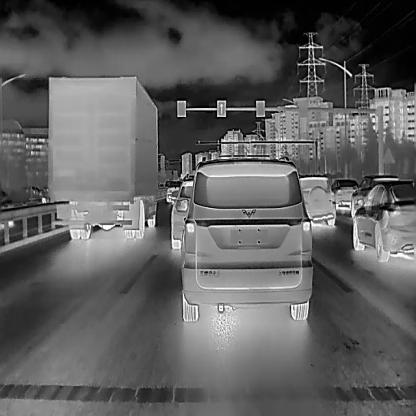car: (180, 158, 312, 321), (351, 179, 415, 262), (349, 172, 399, 219), (297, 175, 336, 225), (169, 179, 197, 248), (330, 177, 360, 212), (165, 179, 183, 202)
truck: (46, 76, 158, 238)
